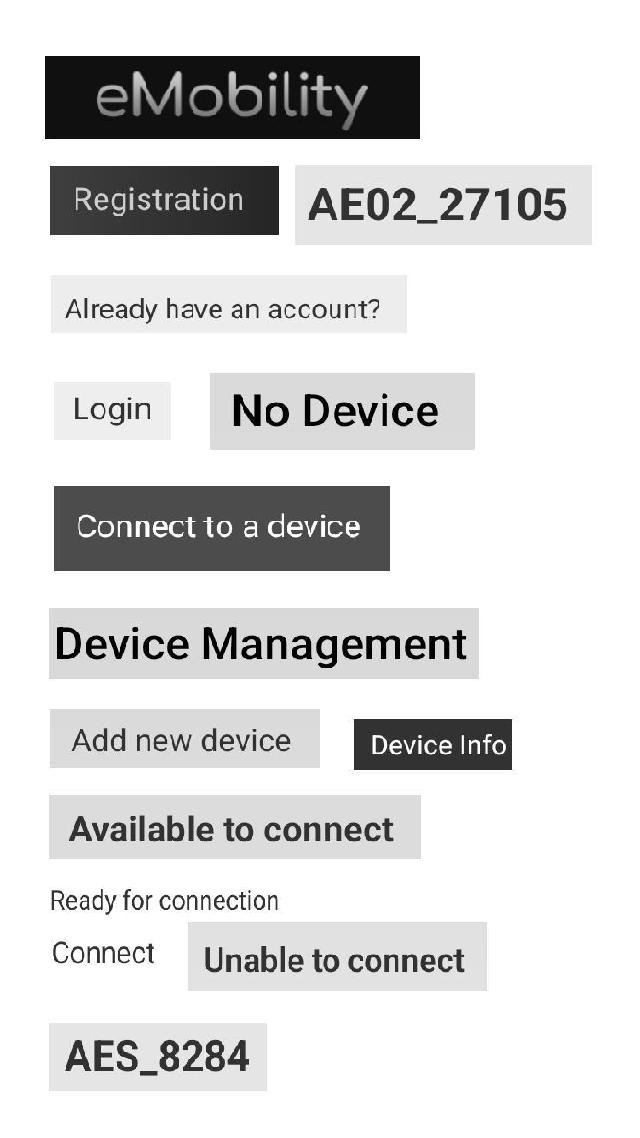Text: (83, 66, 375, 133), (53, 624, 473, 670), (64, 804, 401, 847), (54, 290, 387, 332), (298, 180, 573, 230), (196, 941, 470, 981), (70, 508, 366, 544), (224, 389, 449, 435), (43, 879, 288, 917), (53, 1034, 254, 1080), (58, 179, 252, 220), (61, 722, 292, 755), (366, 728, 510, 764), (42, 934, 165, 970), (63, 389, 158, 429)
